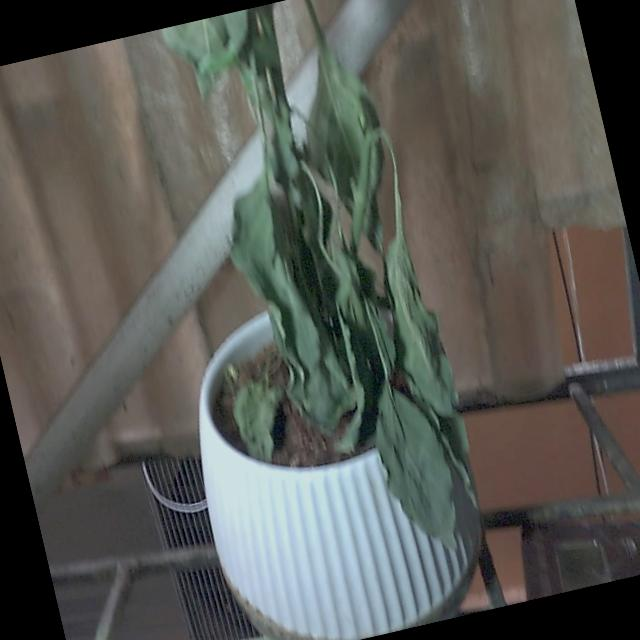Leaf: (230, 176, 354, 432), (306, 36, 382, 250), (375, 382, 454, 548), (161, 9, 247, 95), (232, 380, 281, 462)
